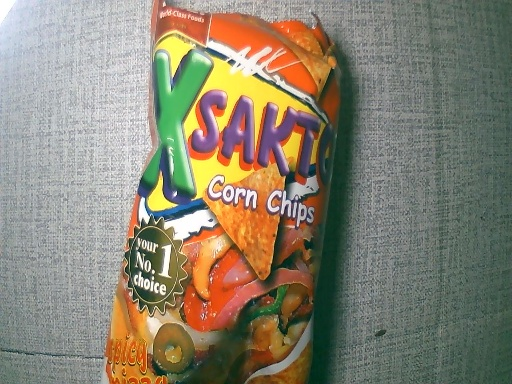plastic: (97, 11, 354, 384)
